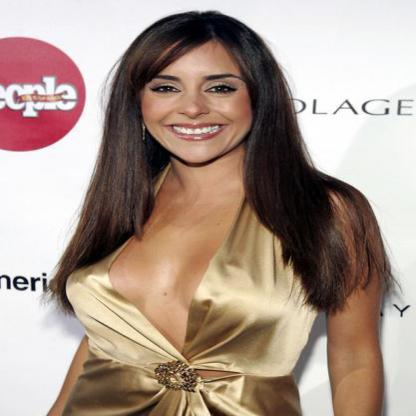long-hair: (82, 166, 327, 222)
